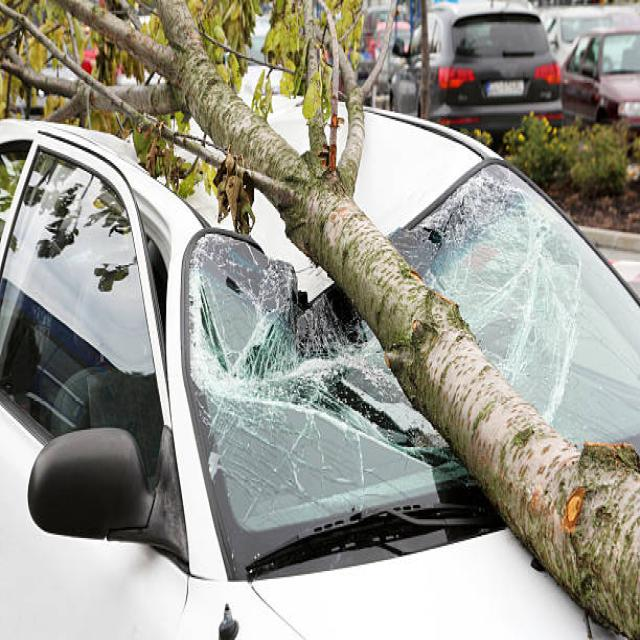Crack: (208, 438, 420, 530)
Dent: (355, 108, 479, 234), (271, 100, 306, 151), (253, 188, 282, 245), (92, 130, 138, 165), (185, 182, 218, 224)
Shatter: (189, 235, 448, 455), (394, 164, 596, 431)
